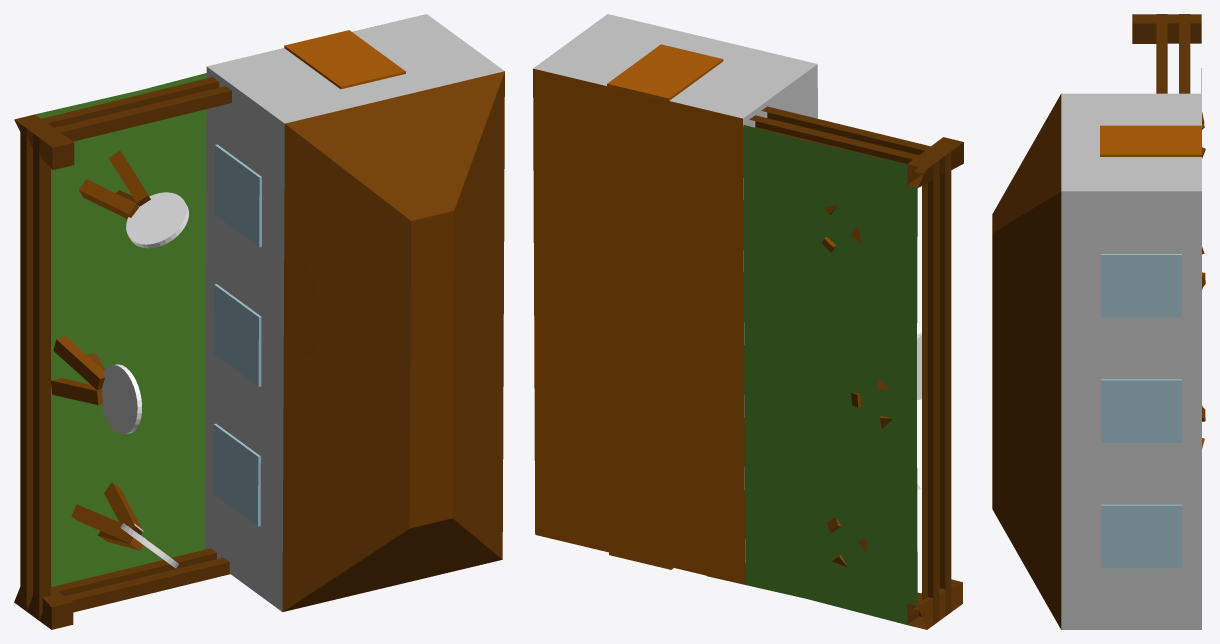
Rendered from Казарма4Origin.fbx.
The picture shows the model from 3 angles, left to right: view 1: azimuth 30°, elevation 25°; view 2: azimuth 150°, elevation 25°; view 3: azimuth 270°, elevation 25°; orthographic projection. The views are drawn at different scales.
Visible parts, largest first — view 1: Казарма4; view 2: Казарма4; view 3: Казарма4.
Part boxes in pixels (box(x1,y1,x2,y2)): Казарма4: box(14, 14, 504, 629); Казарма4: box(533, 14, 963, 629); Казарма4: box(992, 14, 1205, 629).
Bounding box in the file's own units: 1.8 × 2.04 × 0.8879.
